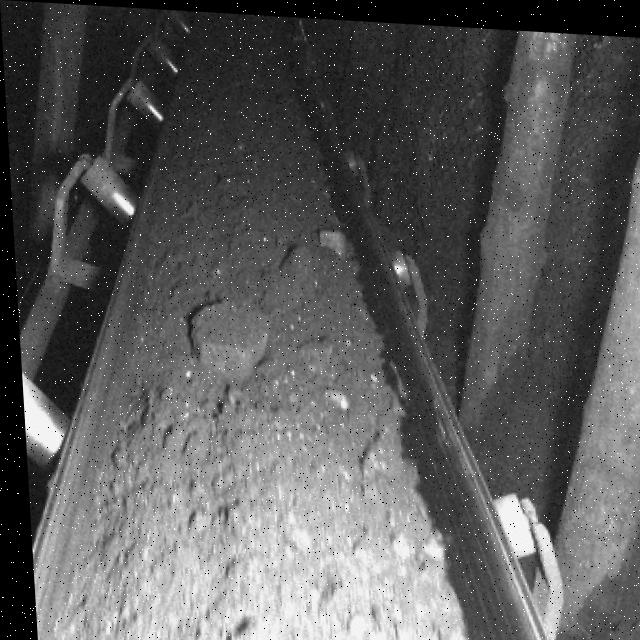large_sized_coal: (191, 291, 269, 373), (294, 331, 337, 376), (311, 222, 344, 253)
